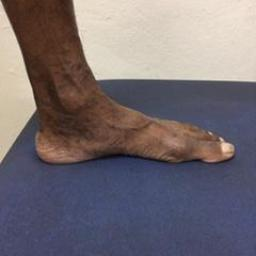Medial View -Left Foot-: (21, 65, 240, 187)
